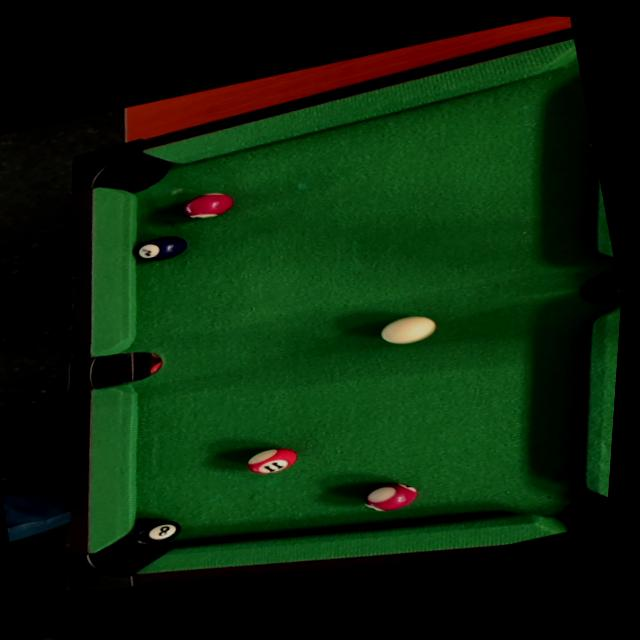cue ball: (368, 306, 449, 356)
other: (356, 471, 430, 518), (239, 436, 309, 481), (180, 183, 241, 225), (123, 512, 188, 551), (129, 227, 191, 266)
